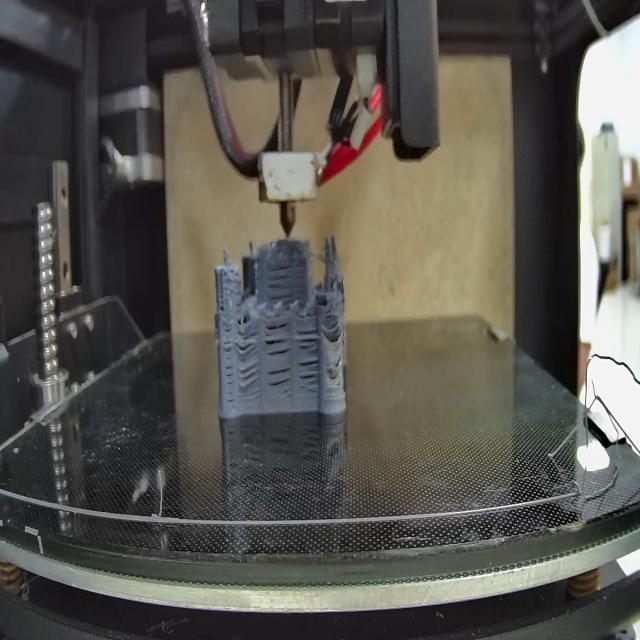cracks: (297, 326, 320, 396), (267, 254, 291, 302), (221, 326, 235, 403), (264, 322, 292, 360), (267, 365, 295, 401), (237, 329, 259, 358), (238, 364, 259, 392), (325, 318, 348, 343), (332, 353, 344, 378), (217, 294, 230, 316)
